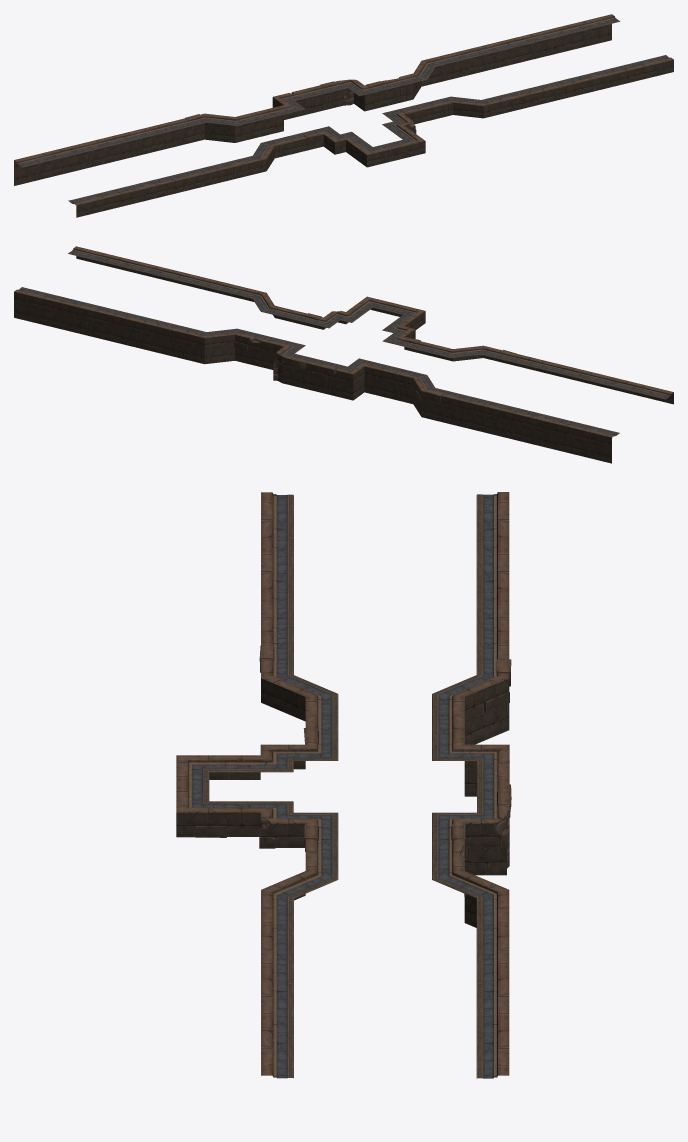
File: huoshan_Ground_pvp_01.FBX
3 views of the same model, one above another, from view 1: azimuth 30°, elevation 25°; view 2: azimuth 150°, elevation 25°; view 3: azimuth 270°, elevation 25° (orthographic). The views are drawn at different scales.
Visible parts, largest first — view 1: huoshan_Ground_pvp_01; view 2: huoshan_Ground_pvp_01; view 3: huoshan_Ground_pvp_01.
Boxes of the visible parts, box(x1,y1,x2,y2) form: huoshan_Ground_pvp_01: box(14, 14, 673, 217); huoshan_Ground_pvp_01: box(14, 246, 673, 463); huoshan_Ground_pvp_01: box(176, 492, 511, 1078).
Bounding box in the file's own units: 16078 × 686 × 3901.
